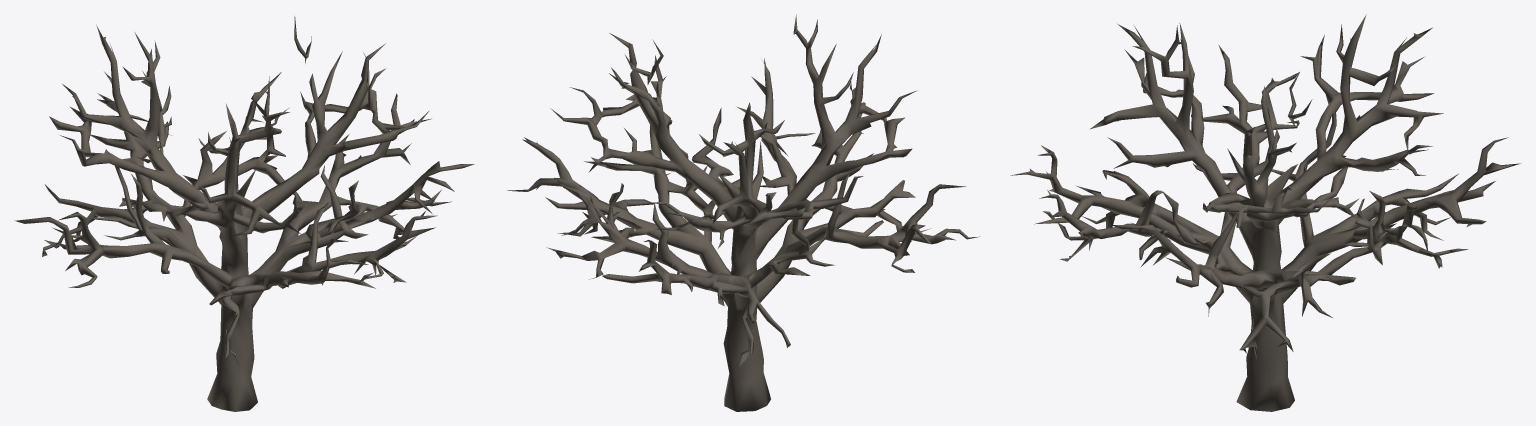
File: Meshy_AI_Winter_s_Reach_0810130613_texture - Copie.glb
The picture shows the model from 3 angles, left to right: view 1: azimuth 30°, elevation 25°; view 2: azimuth 150°, elevation 25°; view 3: azimuth 270°, elevation 25°; orthographic projection. The views are drawn at different scales.
Parts seen in each view (by area): view 1: Mesh1.0; view 2: Mesh1.0; view 3: Mesh1.0.
Part boxes in pixels (<box>): Mesh1.0: <box>14,16,474,411</box>; Mesh1.0: <box>507,14,979,411</box>; Mesh1.0: <box>1010,14,1520,411</box>.
Bounding box in the file's own units: 1.86 × 1.54 × 1.91.
Materials: 1 (1 with a texture image).
